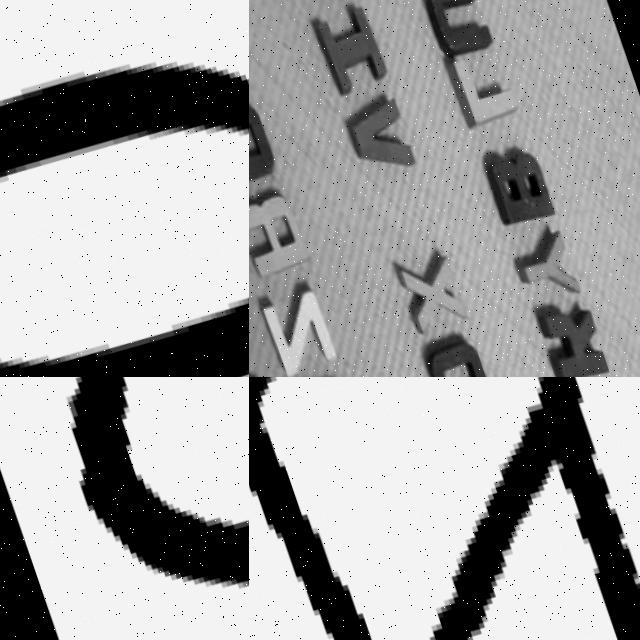0: (0, 0, 249, 377)
B: (479, 136, 556, 223)
E: (62, 377, 249, 583)
G: (249, 84, 282, 192)
I: (308, 0, 387, 88)
K: (534, 288, 610, 377)
L: (448, 41, 520, 124)
O: (426, 332, 494, 377)
R: (249, 179, 311, 278)
U: (421, 0, 493, 52)
V: (340, 87, 416, 173)
X: (397, 248, 469, 331)
Y: (511, 222, 578, 297)
Z: (249, 377, 640, 640), (256, 277, 336, 372)
